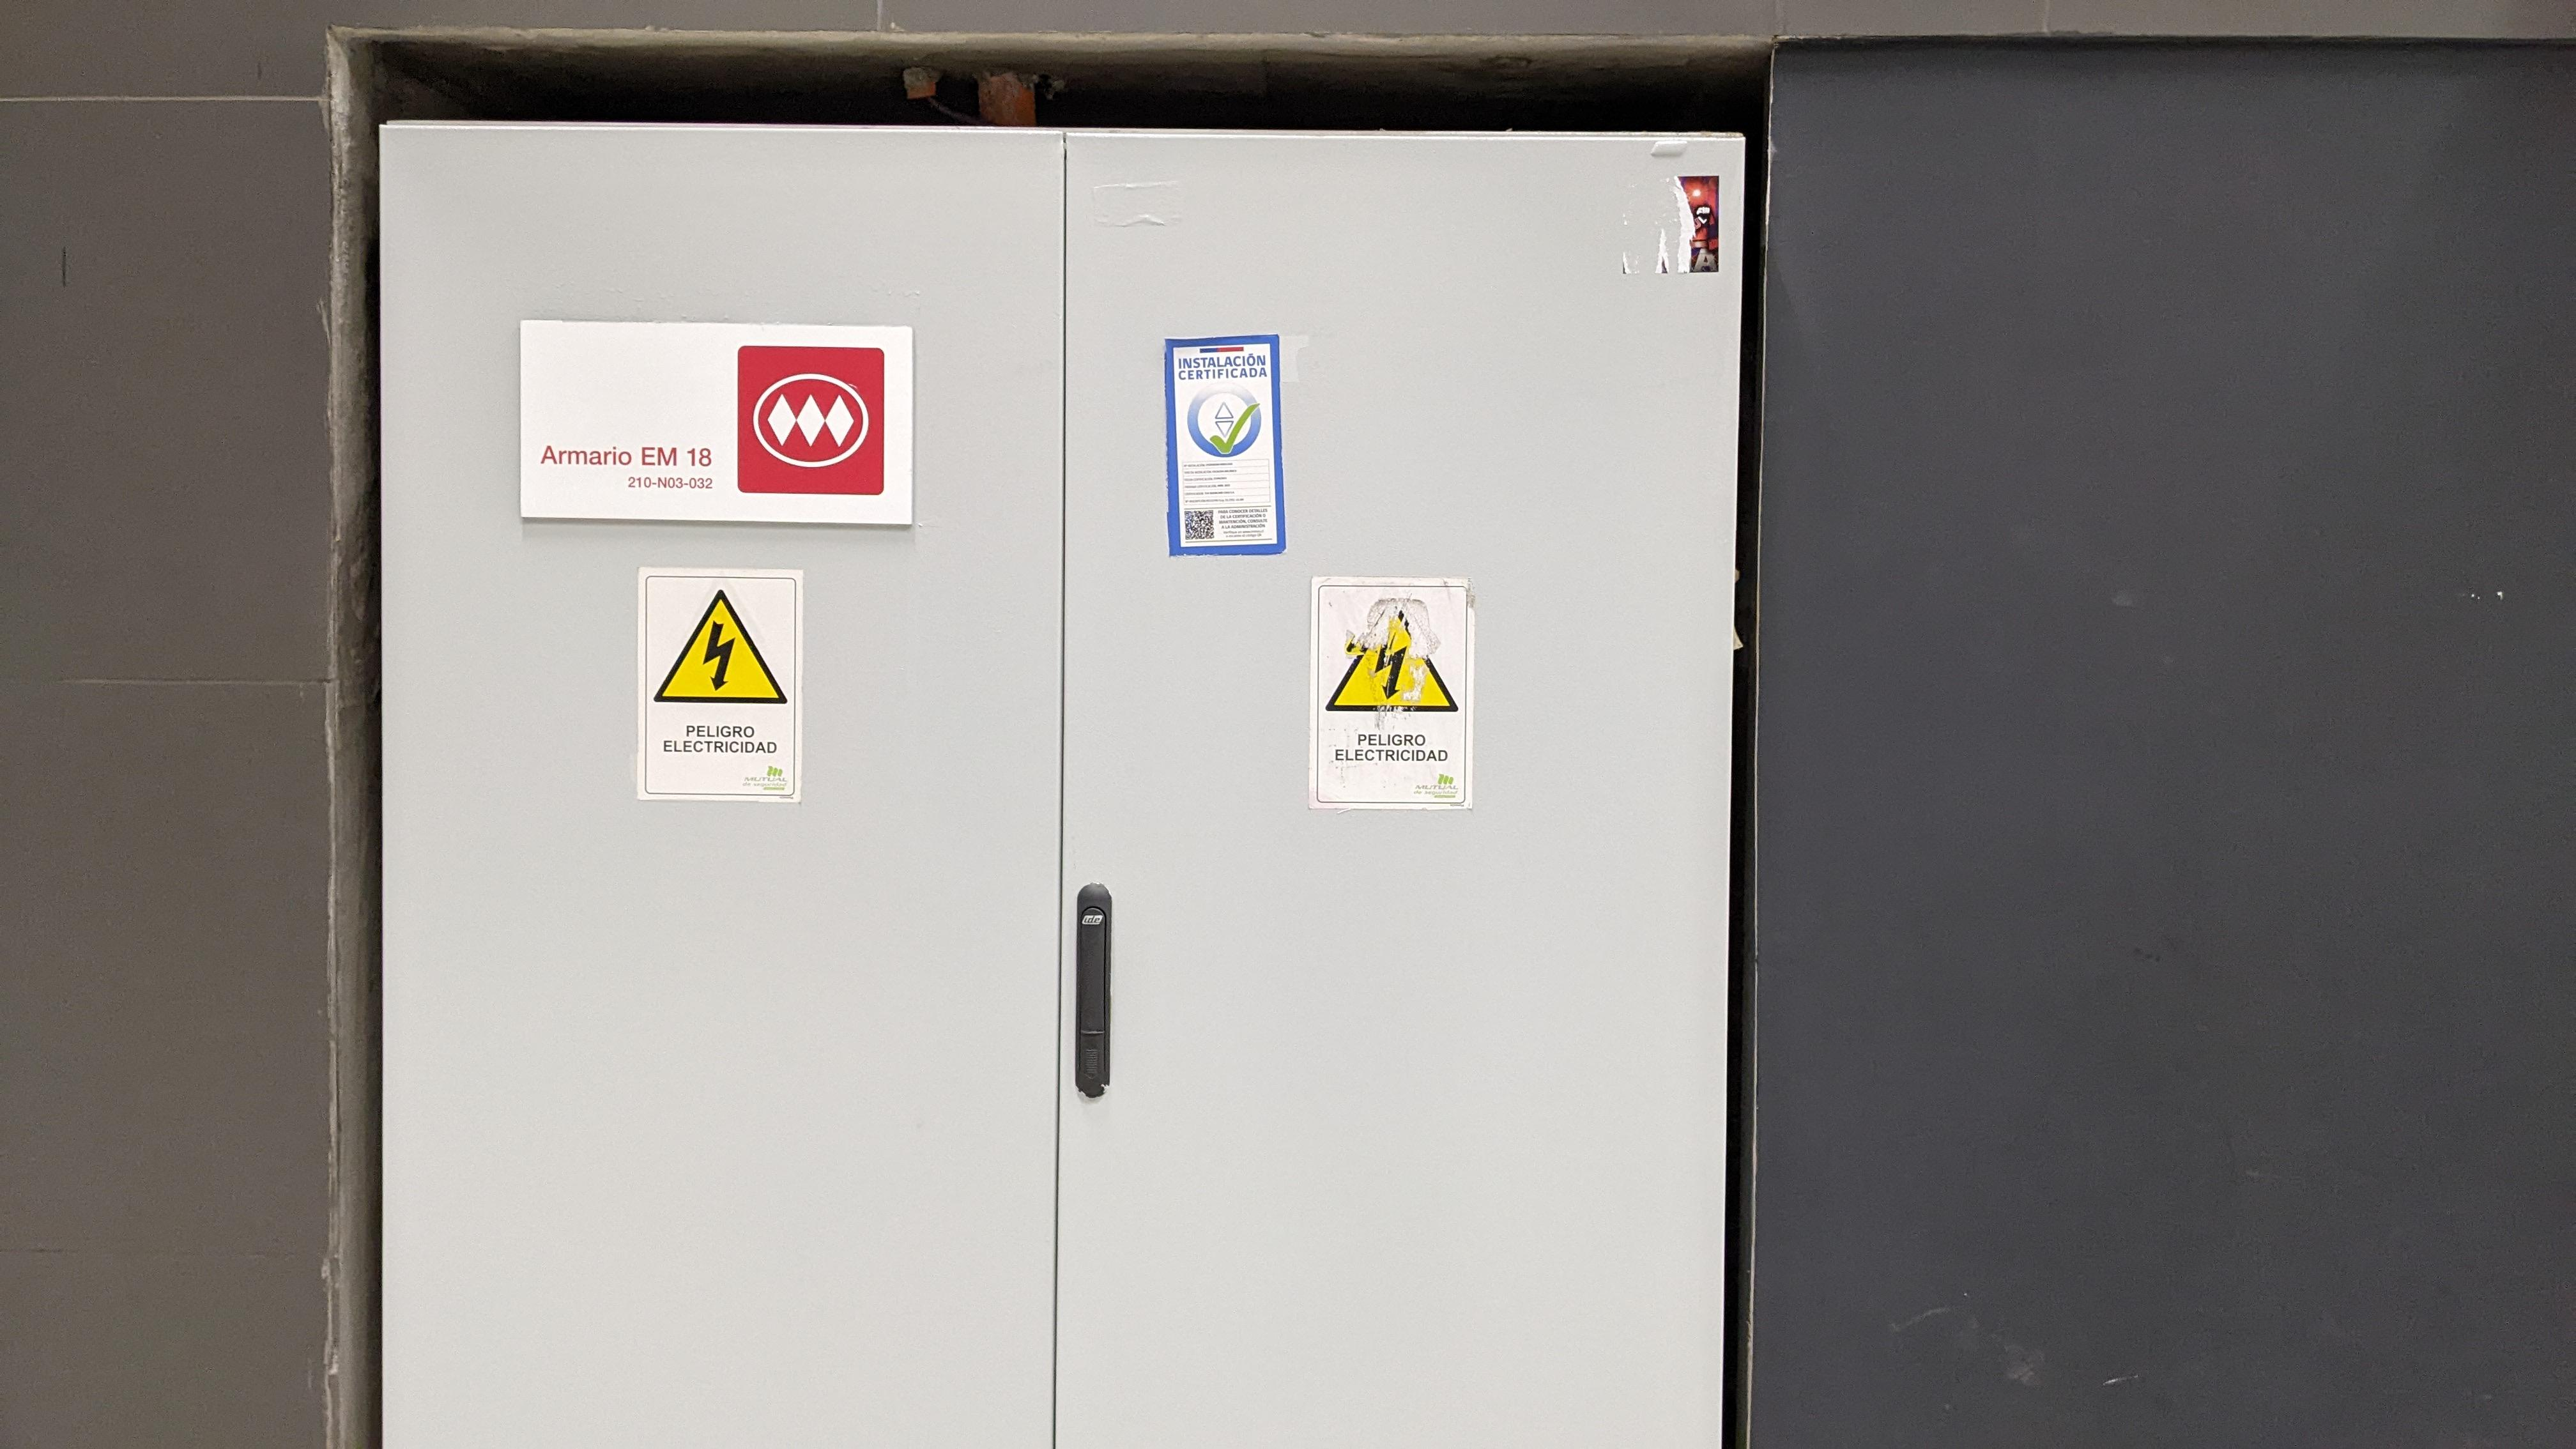danger-electricity: (653, 587, 789, 708), (1323, 609, 1460, 715)
